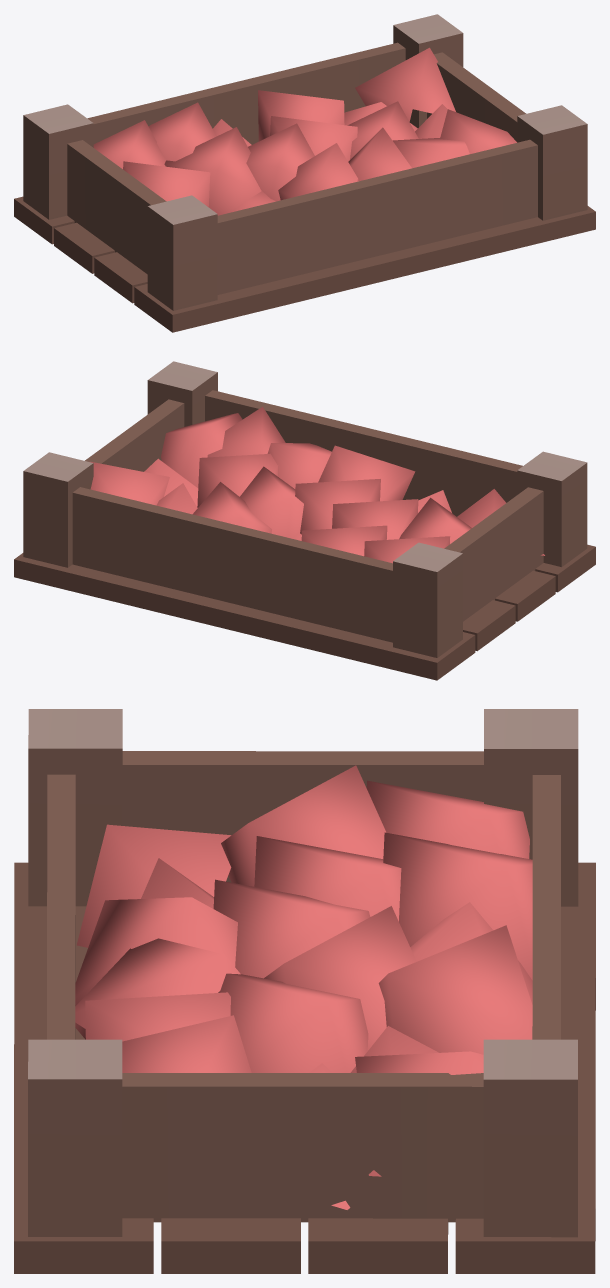
The model's file is n4_box_002_lev4.glb.
3 views of the same model, one above another, from view 1: azimuth 30°, elevation 25°; view 2: azimuth 150°, elevation 25°; view 3: azimuth 270°, elevation 25° (orthographic). The views are drawn at different scales.
Visible parts, largest first — view 1: n4_box_002_lev4; view 2: n4_box_002_lev4; view 3: n4_box_002_lev4.
Part boxes in pixels (x1,y1,x2,y2): n4_box_002_lev4: (14,14,595,332); n4_box_002_lev4: (14,361,595,680); n4_box_002_lev4: (14,709,595,1273).
Size of the model in its own units: 0.7133 by 0.1671 by 0.4632.
1 material, 1 textured.
